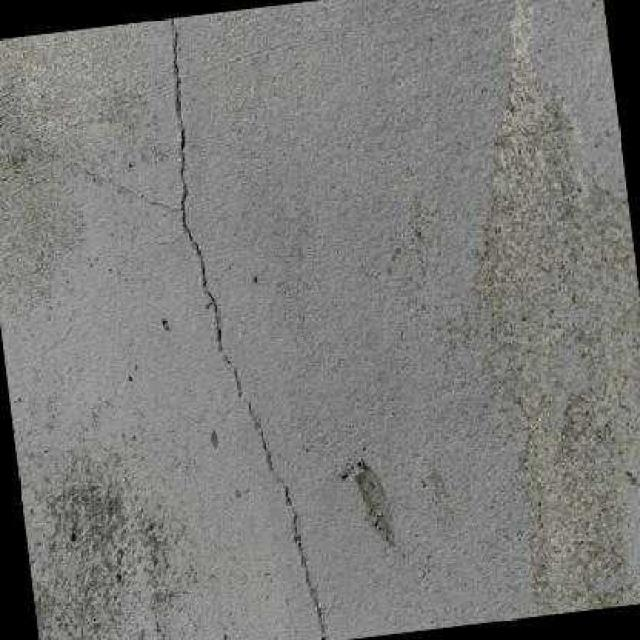D00: (168, 16, 325, 640)
